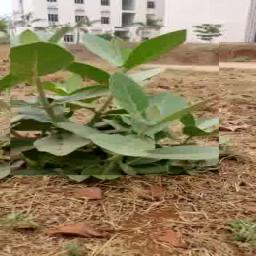CALOTROPIS: (11, 27, 220, 175)
